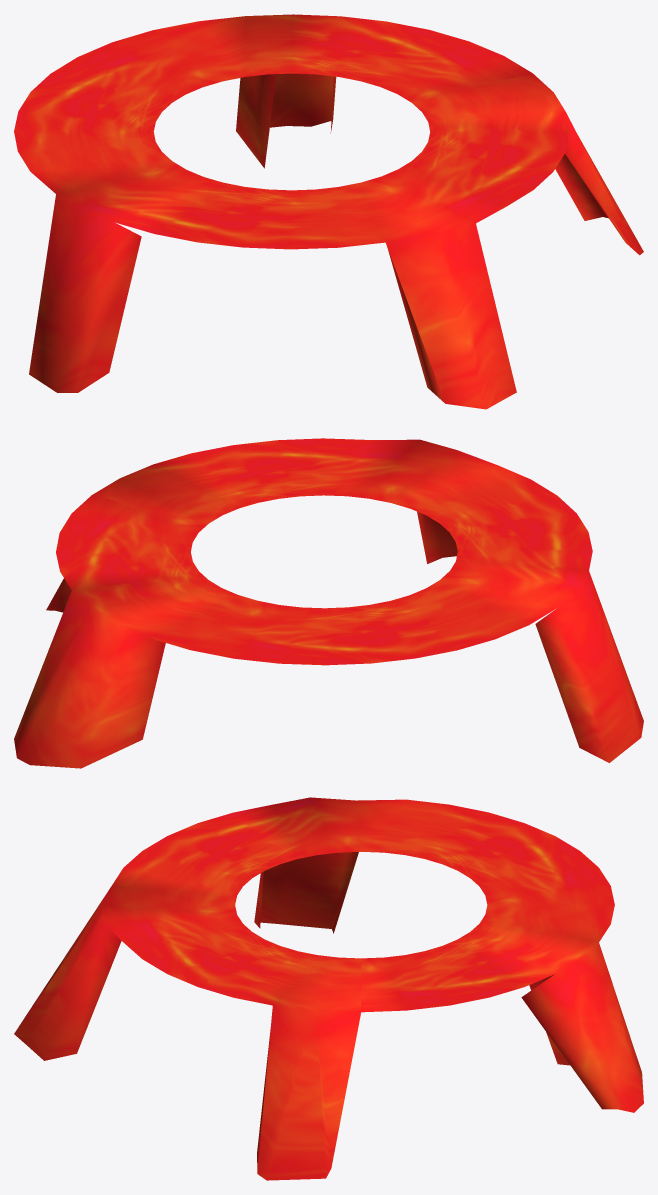
The model's file is SM_Lava.fbx.
The picture shows the model from 3 angles, top to bottom: view 1: azimuth 30°, elevation 25°; view 2: azimuth 150°, elevation 25°; view 3: azimuth 270°, elevation 25°; orthographic projection. The views are drawn at different scales.
Visible parts, largest first — view 1: SM_Lava; view 2: SM_Lava; view 3: SM_Lava.
Boxes of the visible parts, box(x1,y1,x2,y2) form: SM_Lava: box(14, 14, 643, 409); SM_Lava: box(14, 438, 643, 768); SM_Lava: box(14, 797, 643, 1180).
Bounding box in the file's own units: 14.43 × 3.85 × 14.65.
1 material, 1 textured.
